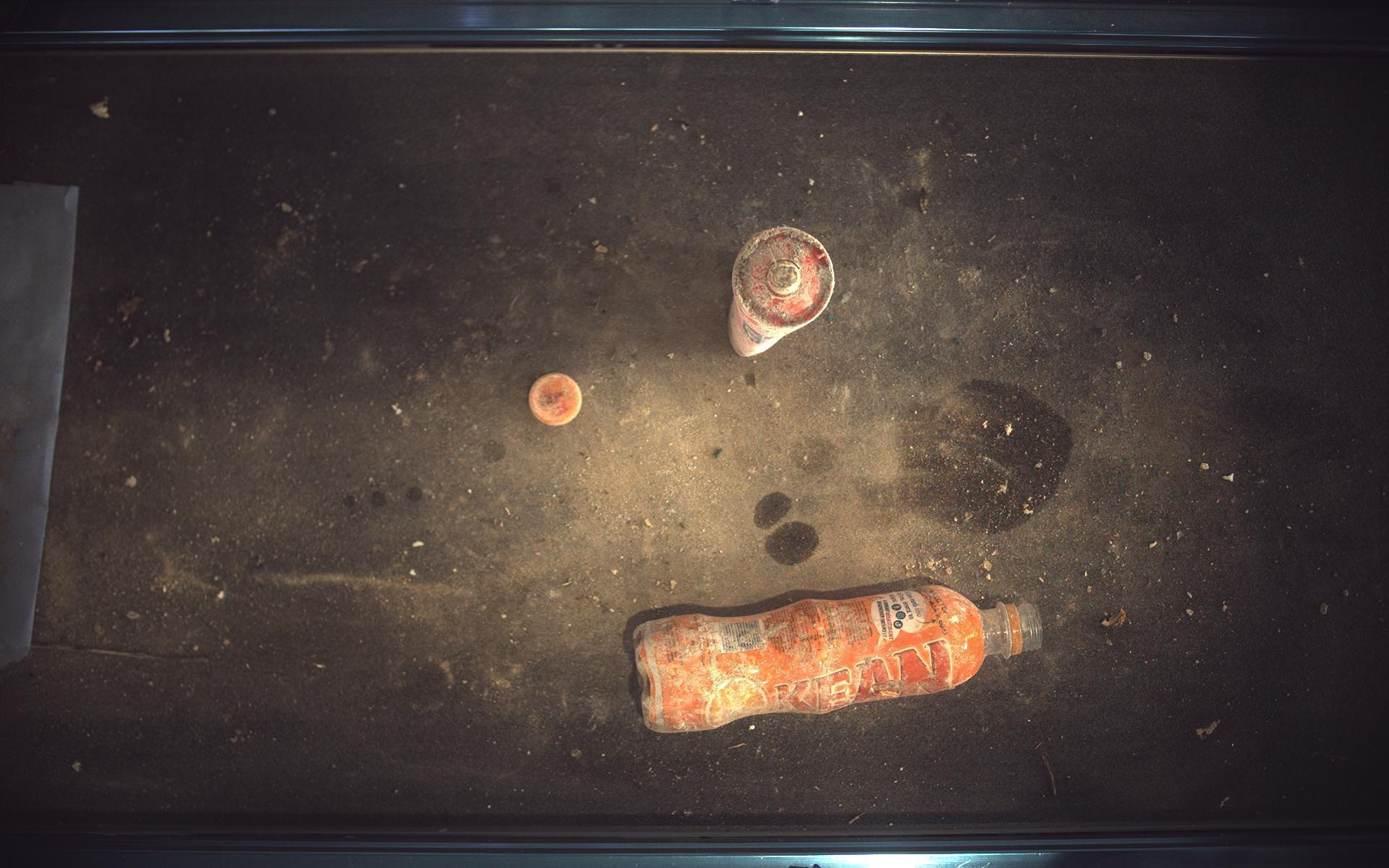general_w: (634, 586, 1045, 734), (529, 373, 582, 426)
plastic: (730, 226, 836, 357)
